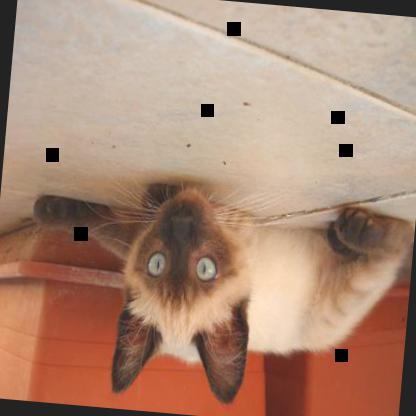cat: (16, 171, 415, 415)
